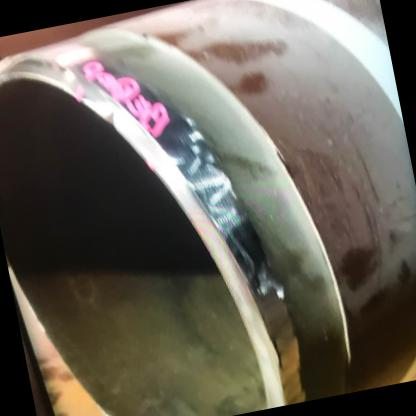Bevel: (96, 104, 122, 128)
